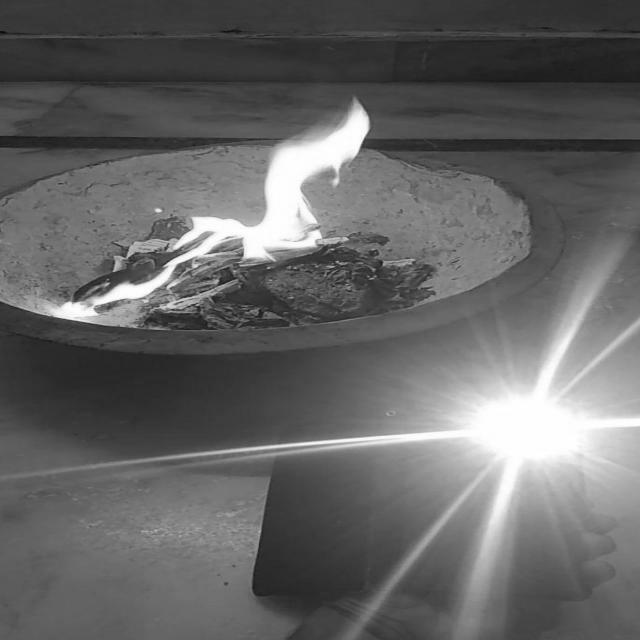smoke: (54, 93, 394, 320)
